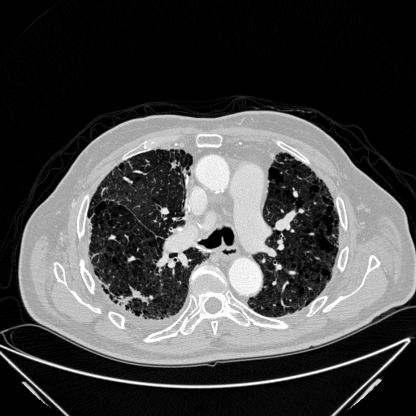nodule: (128, 289, 144, 305)
